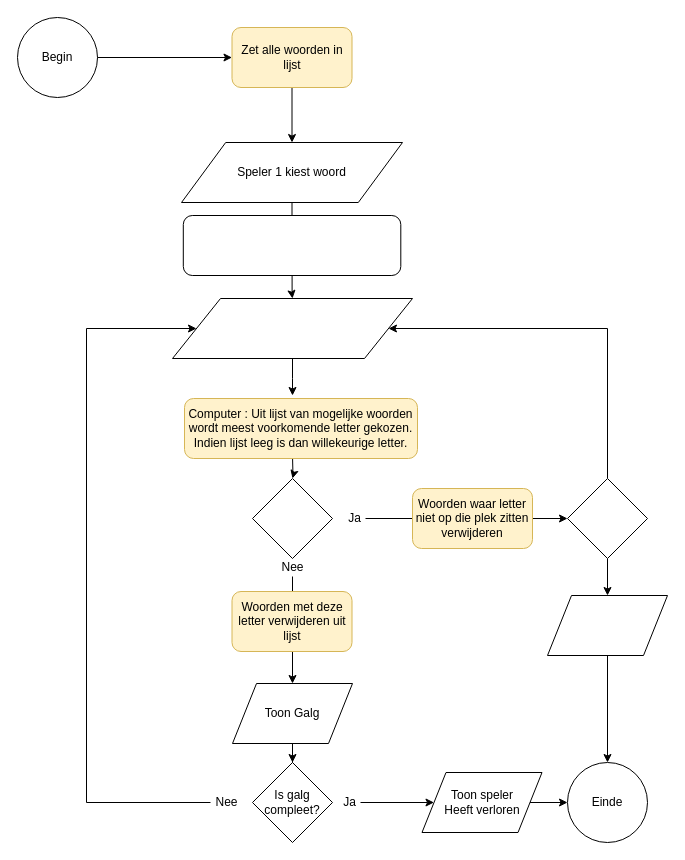
The diagram is 685 pixels wide and 860 high, and some of its shapes have lost their labels. Each missing label, with the box of its shape:
Bereken hoeveel letters het woord heeft.: (182, 214, 401, 276)
Geficiteer speler.: (546, 594, 668, 656)
Is woord geraden?: (566, 478, 648, 558)
Toon op scherm: Streepjes met geraden letters: (172, 298, 412, 358)
Zit letter in woord?: (252, 478, 332, 558)
